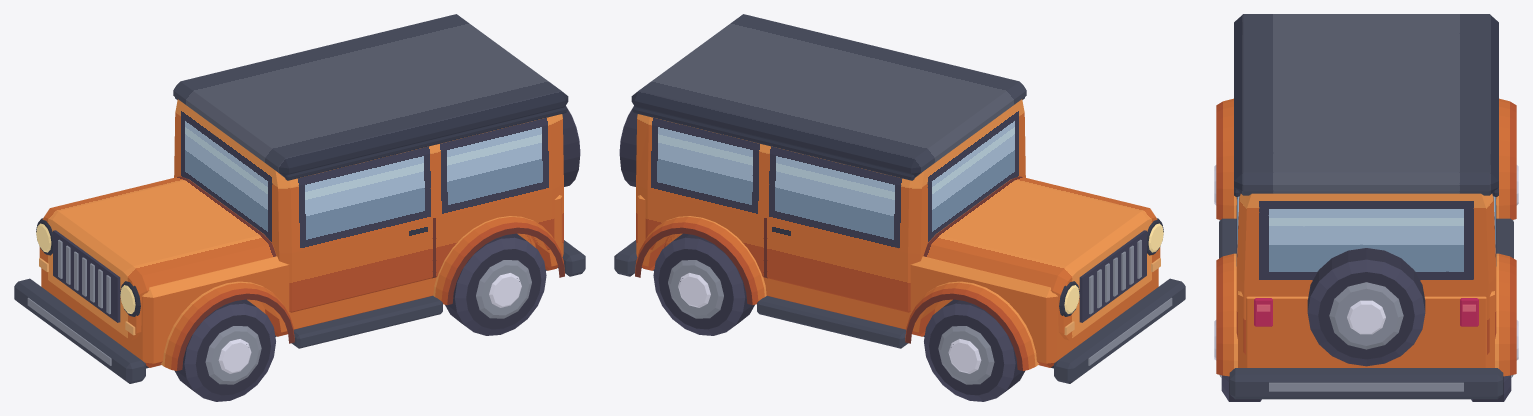
The picture shows the model from 3 angles, left to right: view 1: azimuth 30°, elevation 25°; view 2: azimuth 150°, elevation 25°; view 3: azimuth 270°, elevation 25°; orthographic projection. The views are drawn at different scales.
Parts seen in each view (by area): view 1: Body_static, Wheel_RL_tire_hub, Wheel_FL_tire_hub; view 2: Body_static, Wheel_RR_tire_hub, Wheel_FR_tire_hub; view 3: Body_static, Wheel_RL_tire_hub, Wheel_RR_tire_hub.
Boxes of the visible parts, left/top/right/bottom form: Body_static: left=14, top=14, right=585, bottom=383; Wheel_RL_tire_hub: left=445, top=233, right=546, bottom=335; Wheel_FL_tire_hub: left=175, top=299, right=275, bottom=401; Body_static: left=614, top=14, right=1185, bottom=383; Wheel_RR_tire_hub: left=653, top=233, right=754, bottom=335; Wheel_FR_tire_hub: left=924, top=299, right=1024, bottom=401; Body_static: left=1216, top=14, right=1516, bottom=399; Wheel_RL_tire_hub: left=1214, top=320, right=1261, bottom=401; Wheel_RR_tire_hub: left=1471, top=320, right=1518, bottom=401.
Bounding box in the file's own units: 86.55 × 37.22 × 39.1.
Materials: 1 (1 with a texture image).
